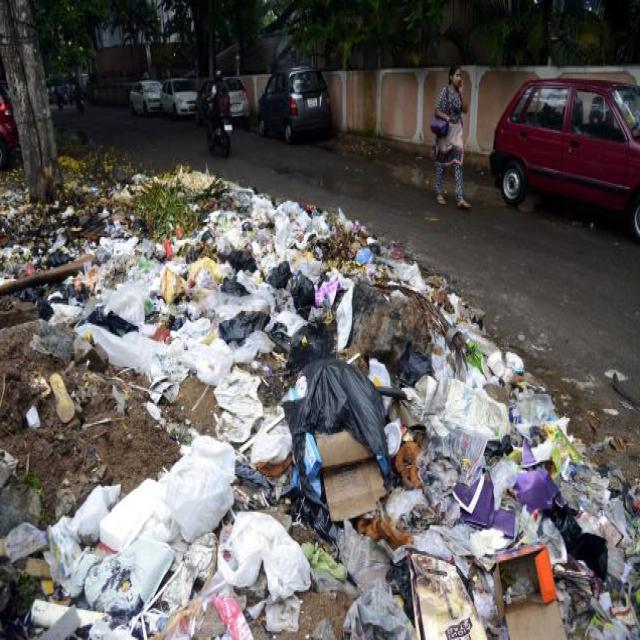garbage: (16, 222, 638, 640)
